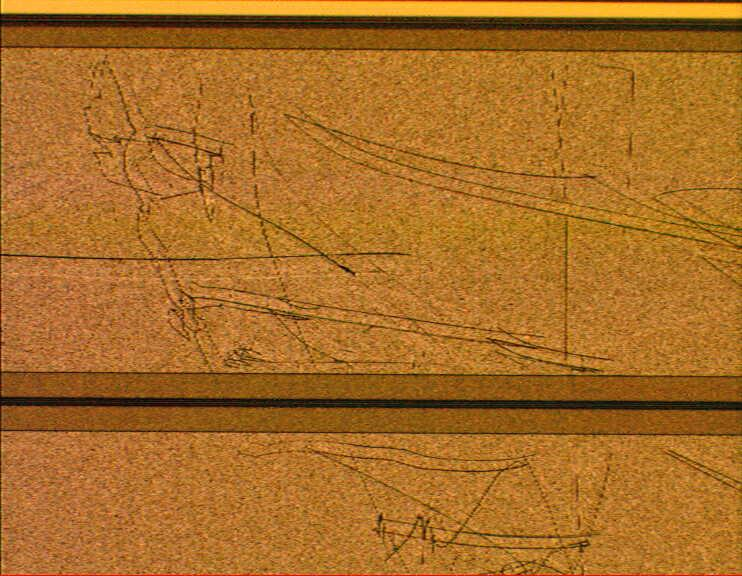SCRATCH: (1, 47, 742, 576)
